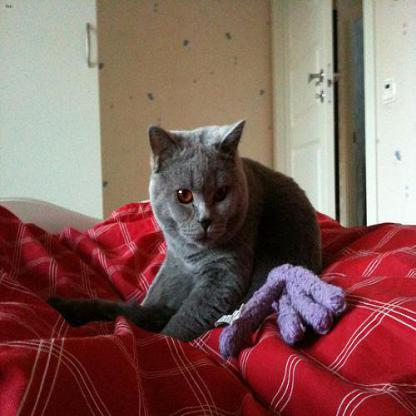cat: (45, 119, 321, 344)
